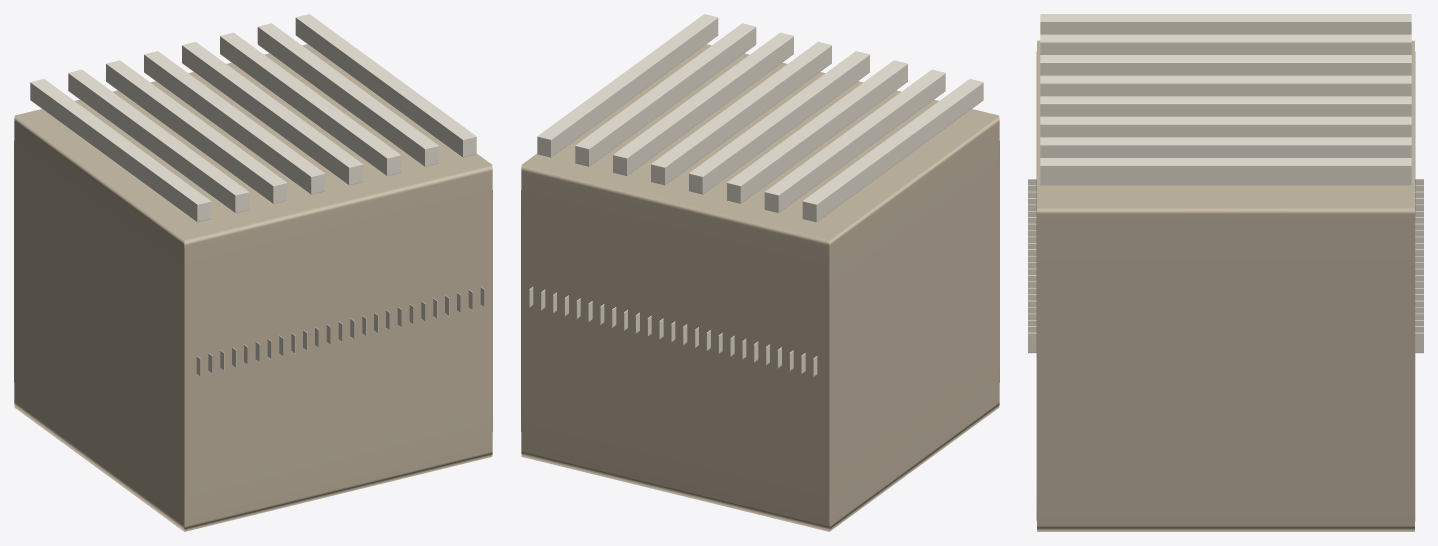
Rendered from rug-15-1.glb.
3 views of the same model, side by side, from view 1: azimuth 30°, elevation 25°; view 2: azimuth 150°, elevation 25°; view 3: azimuth 270°, elevation 25° (orthographic). The views are drawn at different scales.
Visible parts, largest first — view 1: woven-rug, upholstery; view 2: woven-rug, upholstery; view 3: woven-rug, upholstery.
Boxes of the visible parts, bbox=[...] form: woven-rug: bbox=[14, 44, 492, 531]; upholstery: bbox=[30, 14, 484, 376]; woven-rug: bbox=[521, 44, 999, 531]; upholstery: bbox=[529, 14, 983, 376]; woven-rug: bbox=[1036, 40, 1415, 531]; upholstery: bbox=[1028, 14, 1423, 353].
Bounding box in the file's own units: 1 × 1 × 1.
